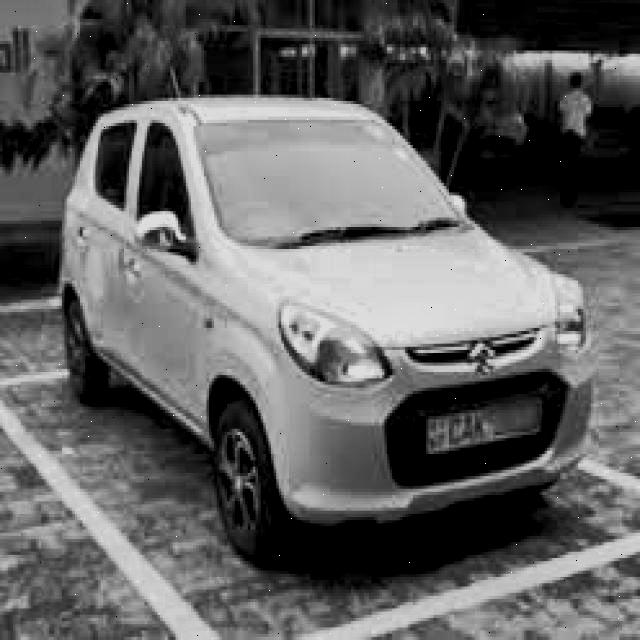Car: (13, 76, 600, 524)
